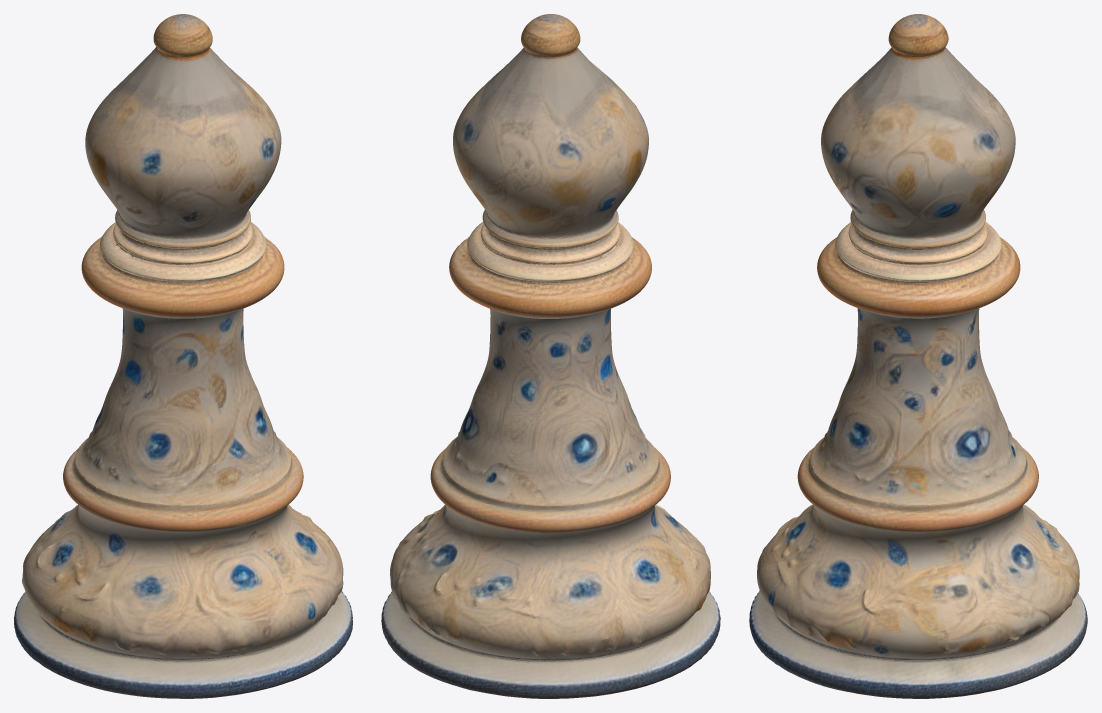
Rendered from pawn_white.glb.
3 views of the same model, side by side, from view 1: azimuth 30°, elevation 25°; view 2: azimuth 150°, elevation 25°; view 3: azimuth 270°, elevation 25° (orthographic).
Visible parts, largest first — view 1: model; view 2: model; view 3: model.
Part boxes in pixels (x1,y1,x2,y2): model: (14,14,352,698); model: (381,14,720,698); model: (749,14,1087,698).
Bounding box in the file's own units: 0.952 × 1.9 × 0.9501.
Materials: 1 (1 with a texture image).
